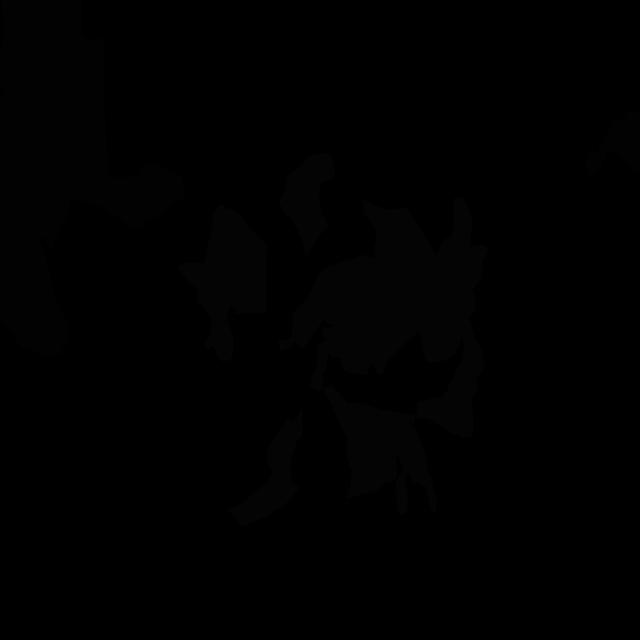cardboard: (0, 38, 185, 252), (0, 0, 92, 138), (0, 227, 68, 357), (584, 111, 640, 180)
soft_plastic: (278, 196, 489, 438), (323, 384, 438, 516), (177, 204, 267, 362), (228, 404, 302, 527), (279, 153, 335, 259)
